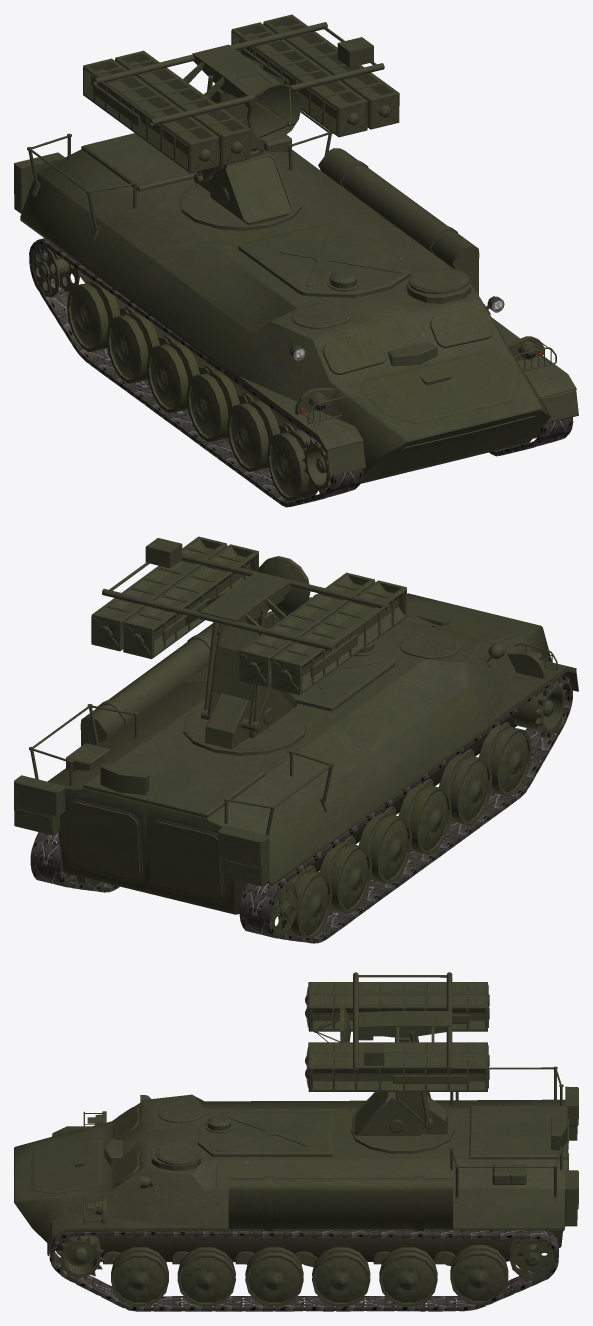
Rendered from zrk_strela10_2.FBX.
3 views of the same model, one above another, from view 1: azimuth 30°, elevation 25°; view 2: azimuth 150°, elevation 25°; view 3: azimuth 270°, elevation 25° (orthographic). The views are drawn at different scales.
Parts seen in each view (by area): view 1: Body (×2), Frame, Track_line_right, Decore, Body002, Body001, tower_base, Body003, Wheel_Right_03, tower_glass, Wheel_Right_02, Wheel_Right_05 (+12 smaller); view 2: Body (×2), Frame, Track_line_right, Body002, tower_base, Decore, Cabin_Simple, Body001, Body003, Wheel_Right_02, Wheel_Right_01, Wheel_Right_04 (+6 smaller); view 3: Body (×2), Decore, Track_line_left, Body003, Frame, Body001, tower_base, Wheel_Left_04, Wheel_Left_02, Wheel_Left_03, Wheel_Left_05, Wheel_Left_01 (+6 smaller).
Boxes of the visible parts, x1,y1,x2,y2 form: Body (×2): [14, 58, 578, 483]; Frame: [93, 22, 384, 141]; Track_line_right: [29, 238, 363, 507]; Decore: [318, 148, 479, 295]; Body002: [231, 22, 367, 137]; Body001: [115, 50, 251, 165]; tower_base: [179, 150, 302, 230]; Body003: [263, 14, 399, 129]; Wheel_Right_03: [186, 370, 239, 442]; tower_glass: [228, 156, 290, 220]; Wheel_Right_02: [227, 400, 280, 471]; Wheel_Right_05: [106, 312, 159, 383]; Body (×2): [14, 580, 578, 914]; Frame: [102, 538, 390, 650]; Track_line_right: [239, 675, 572, 943]; Body002: [123, 544, 258, 659]; tower_base: [183, 688, 305, 755]; Decore: [80, 623, 218, 746]; Cabin_Simple: [201, 598, 273, 731]; Body001: [239, 572, 375, 687]; Body003: [91, 536, 227, 651]; Wheel_Right_02: [439, 753, 492, 824]; Wheel_Right_01: [479, 724, 531, 796]; Wheel_Right_04: [359, 812, 411, 883]; Body (×2): [14, 982, 578, 1267]; Decore: [228, 1176, 452, 1231]; Track_line_left: [49, 1230, 558, 1311]; Body003: [308, 1055, 489, 1091]; Frame: [314, 972, 452, 1071]; Body001: [308, 995, 489, 1031]; tower_base: [350, 1092, 454, 1153]; Wheel_Left_04: [312, 1247, 370, 1306]; Wheel_Left_02: [177, 1247, 235, 1306]; Wheel_Left_03: [245, 1247, 303, 1306]; Wheel_Left_05: [379, 1247, 437, 1306]; Wheel_Left_01: [111, 1247, 168, 1306].
Bounding box in the file's own units: 221 × 500 × 249.
Materials: 4 (4 with a texture image).
